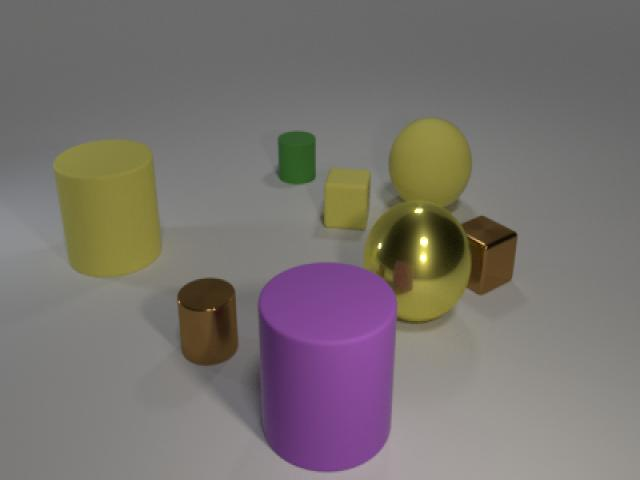cylinder: (256, 262, 397, 474), (45, 132, 169, 284), (175, 269, 243, 370), (272, 125, 318, 186)
round ball: (364, 204, 468, 326), (387, 117, 473, 212)
